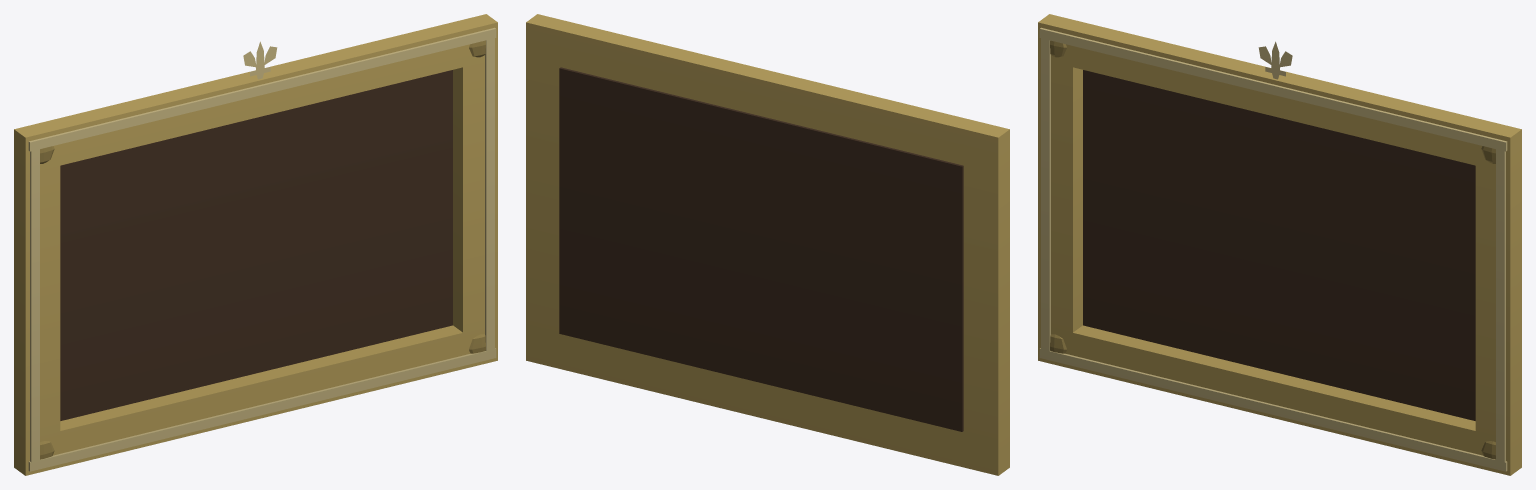
Rendered from palace_frame_landscape.glb.
3 renders of one model, left to right at view 1: azimuth 30°, elevation 25°; view 2: azimuth 150°, elevation 25°; view 3: azimuth 330°, elevation 25°, orthographic.
Parts seen in each view (by area): view 1: palace_frame_landscape; view 2: palace_frame_landscape; view 3: palace_frame_landscape.
Boxes of the visible parts, bbox=[...] form: palace_frame_landscape: bbox=[14, 14, 497, 475]; palace_frame_landscape: bbox=[526, 14, 1009, 475]; palace_frame_landscape: bbox=[1038, 14, 1521, 475].
Size of the model in its own units: 1.9 by 1.45 by 0.1.
